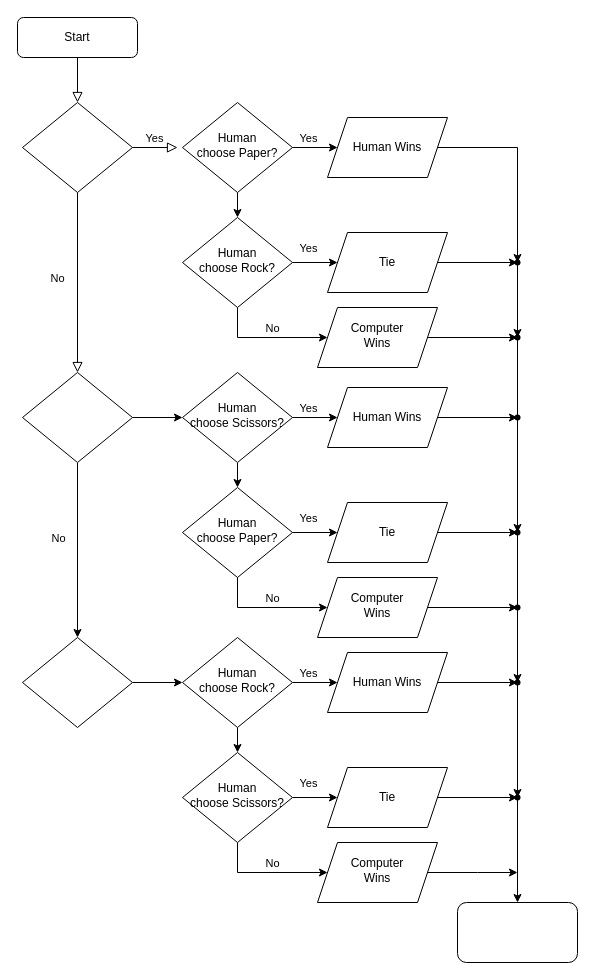
Image size: 595x980. Some labels were removed from this diagram. Here are the shapes that lost their labels. From the top down, the centre of each, then its label:
(77,147): Computer choose Rock?
(77,417): Computer chose Paper?
(77,682): Computer chose Scissors?
(517,932): End
